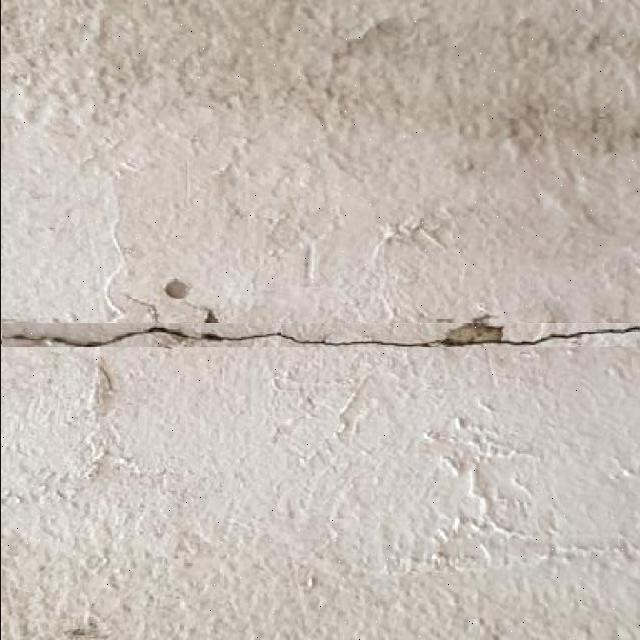crack: (70, 154, 130, 596), (131, 3, 313, 135), (1, 318, 639, 350), (119, 479, 278, 597), (323, 12, 455, 127), (295, 104, 442, 207), (3, 471, 124, 566), (89, 160, 142, 336), (259, 2, 410, 56), (6, 440, 124, 506), (258, 195, 341, 268), (582, 48, 640, 145), (202, 134, 271, 196), (86, 458, 201, 491), (76, 128, 146, 182), (377, 214, 451, 263), (366, 223, 401, 312), (531, 176, 582, 229), (215, 265, 264, 317), (498, 107, 550, 155), (209, 161, 249, 219), (63, 96, 107, 142), (269, 365, 312, 398), (187, 102, 223, 137), (92, 12, 120, 57), (3, 81, 31, 125), (497, 136, 523, 166), (514, 16, 540, 42), (182, 157, 194, 206), (178, 534, 200, 558), (4, 494, 22, 507)
dampens: (150, 322, 226, 343), (154, 330, 193, 349), (591, 112, 612, 140), (203, 309, 219, 324)
dampness: (6, 333, 67, 347), (164, 278, 191, 300)
